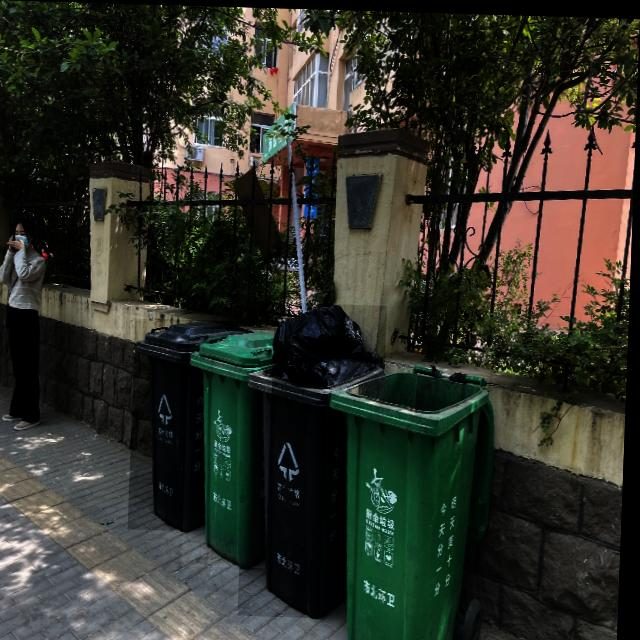garbage_bin: (323, 359, 500, 640), (132, 317, 256, 531), (185, 327, 277, 567)
overflow: (242, 300, 389, 617)
